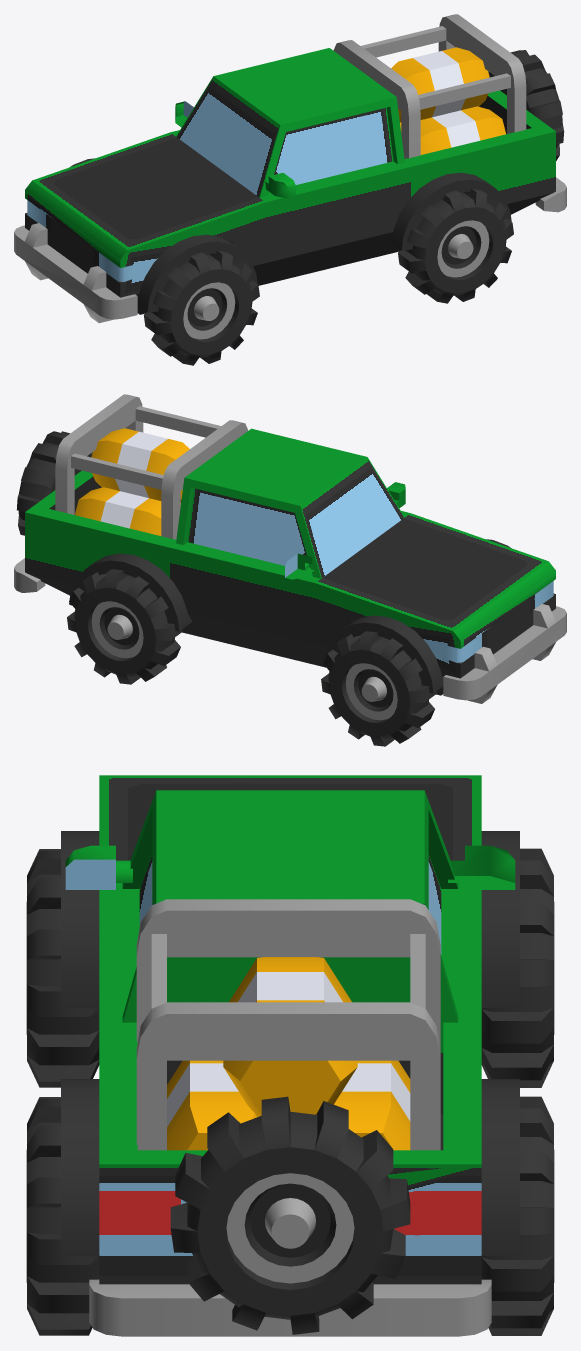
Rendered from offroader-wheelsrenamed.glb.
3 renders of one model, top to bottom at view 1: azimuth 30°, elevation 25°; view 2: azimuth 150°, elevation 25°; view 3: azimuth 270°, elevation 25°, orthographic. The views are drawn at different scales.
Parts seen in each view (by area): view 1: body, wheel-back-left, wheel-front-left; view 2: body, wheel-front-right, wheel-back-right; view 3: body, wheel-front-right, wheel-front-left, wheel-back-right, wheel-back-left.
Part boxes in pixels (<box>): body: <box>14,14,566,323</box>; wheel-back-left: <box>398,188,513,303</box>; wheel-front-left: <box>144,250,259,365</box>; body: <box>14,394,566,703</box>; wheel-front-right: <box>321,631,437,746</box>; wheel-back-right: <box>67,569,182,684</box>; body: <box>61,775,519,1336</box>; wheel-front-right: <box>481,848,554,1087</box>; wheel-front-left: <box>26,849,99,1087</box>; wheel-back-right: <box>481,1096,554,1335</box>; wheel-back-left: <box>26,1097,99,1335</box>.
Bounding box in the file's own units: 3.32 × 1.31 × 1.57.
Materials: 1 (1 with a texture image).
